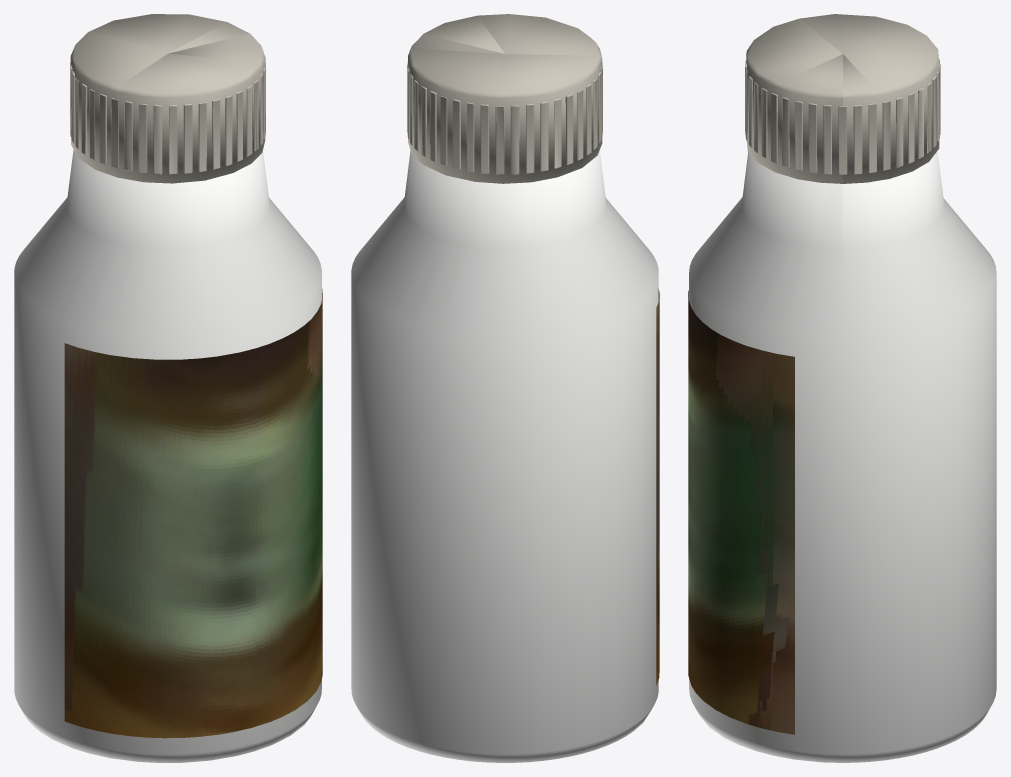
3 views of the same model, side by side, from view 1: azimuth 30°, elevation 25°; view 2: azimuth 150°, elevation 25°; view 3: azimuth 270°, elevation 25° (orthographic).
Visible parts, largest first — view 1: small_spice_bottle__body, small_spice_bottle__cap; view 2: small_spice_bottle__body, small_spice_bottle__cap; view 3: small_spice_bottle__body, small_spice_bottle__cap.
Part boxes in pixels (x1,y1,x2,y2): small_spice_bottle__body: (14, 150, 322, 762); small_spice_bottle__cap: (70, 14, 265, 183); small_spice_bottle__body: (351, 150, 659, 762); small_spice_bottle__cap: (407, 14, 602, 183); small_spice_bottle__body: (688, 151, 996, 762); small_spice_bottle__cap: (745, 14, 940, 183).
Bounding box in the file's own units: 0.0463 × 0.1074 × 0.0464.
4 materials, 1 textured.
